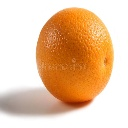orange: (35, 6, 114, 103)
